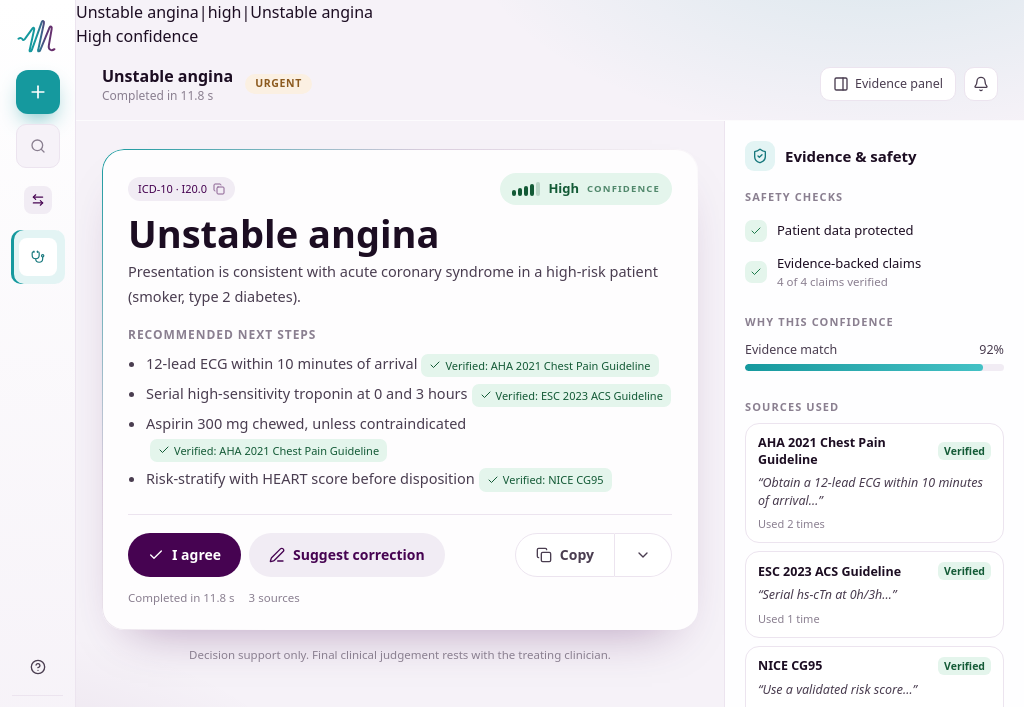
Scenario: ConsultationView › a correction being typed › asks before a command palette row discards it
This screenshot has width=1024, height=707.
Expected: the button "Evidence panel" is shown, [820,67,956,101]
Click the button "Suggest correction". click: (347, 555)
box: [249,533,445,577]
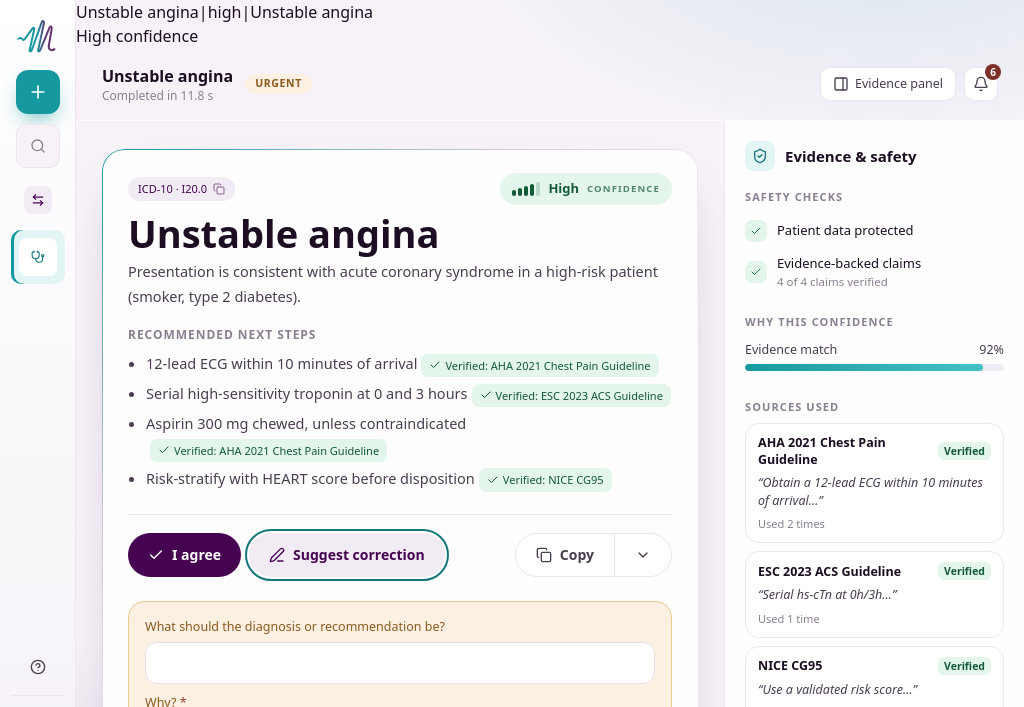
Type "Pericarditis" into the field labelled "What should the diagnosis or recommendation be?". click: (400, 663)
box: [145,642,655,684]
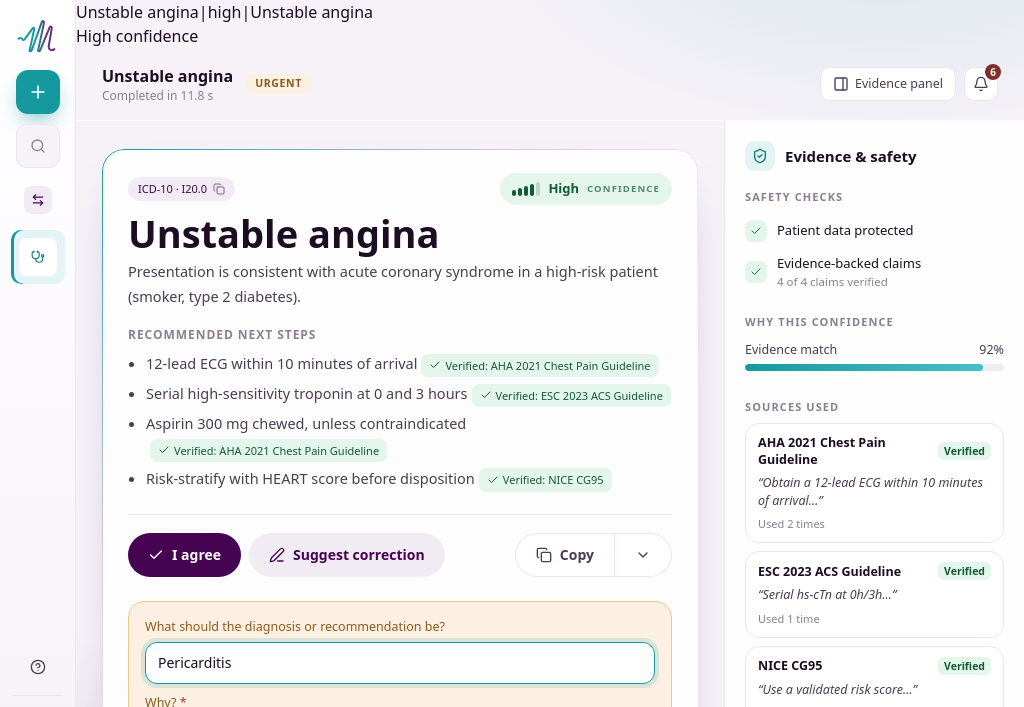
Type keys "{Control>}k{/Control}"
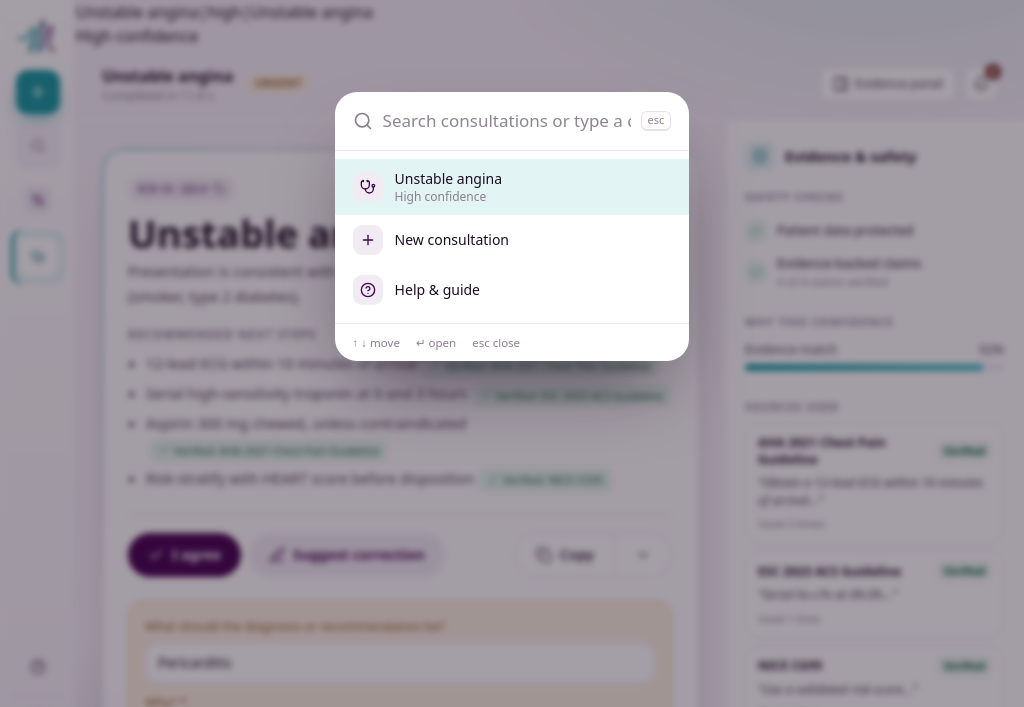
Type "New consultation" into the dropdown. click: (507, 121)
box: [383,108,631,134]
Then press Enter
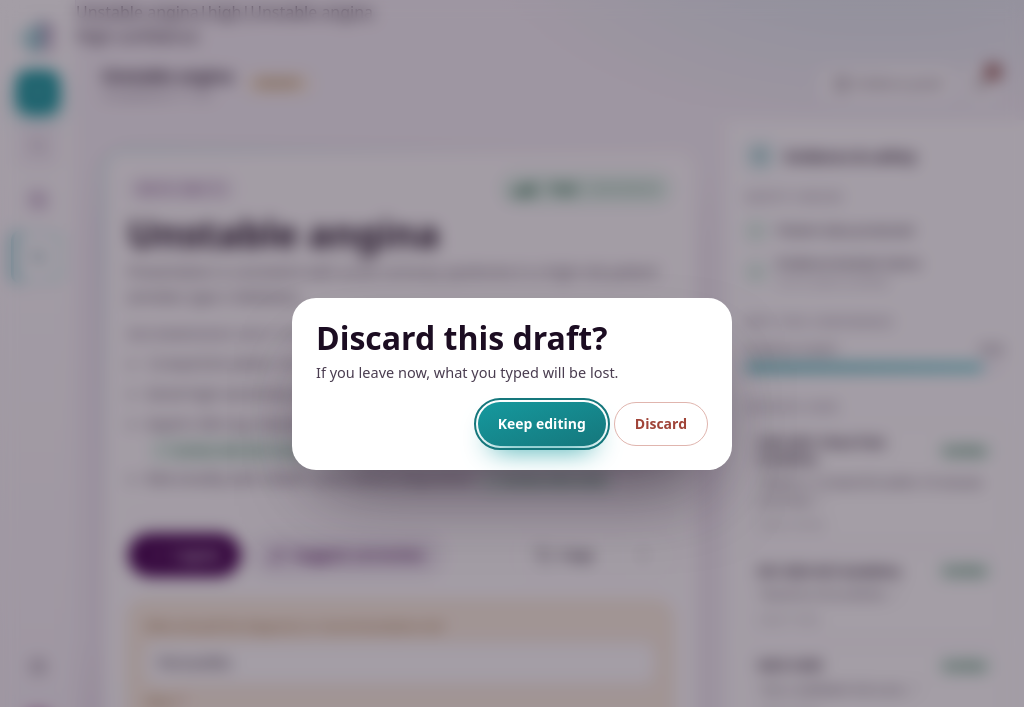
Result: the dialog "Discard this draft?" is shown at [292,298,732,470]
